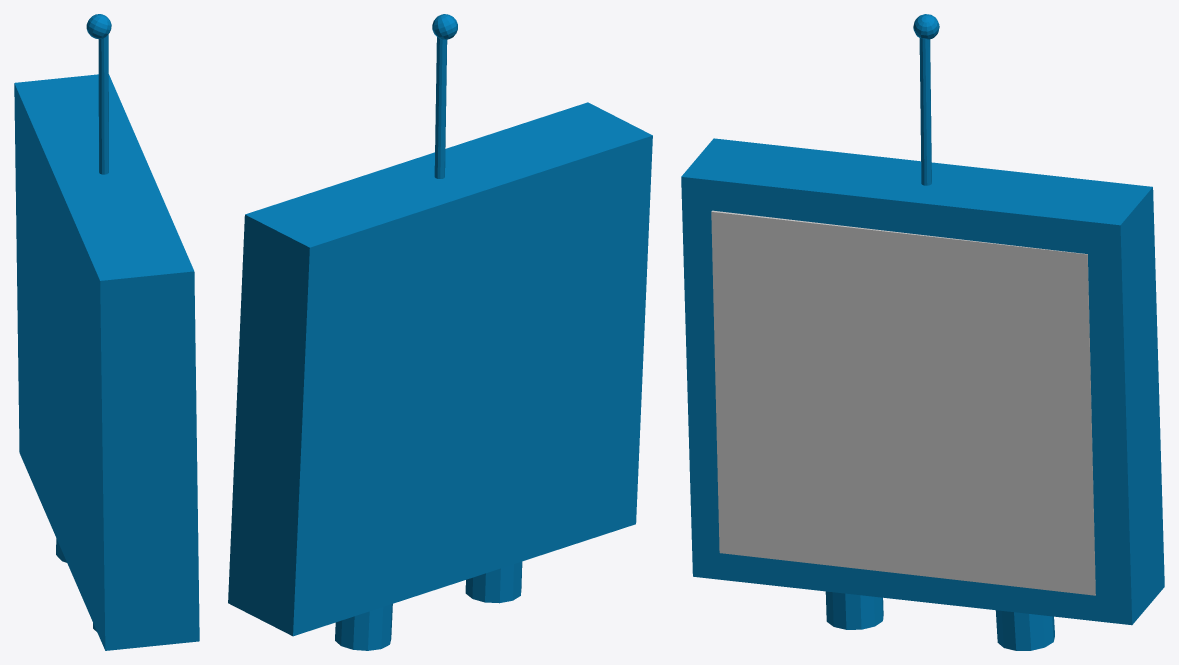
The picture shows the model from 3 angles, left to right: view 1: azimuth 30°, elevation 25°; view 2: azimuth 150°, elevation 25°; view 3: azimuth 270°, elevation 25°; orthographic projection. The views are drawn at different scales.
Visible parts, largest first — view 1: node_MeshObject2117136384-PolyPaper21; view 2: node_MeshObject2117136384-PolyPaper21; view 3: node_MeshObject2117136384-PolyPaper21.
Boxes of the visible parts, x1=… form: node_MeshObject2117136384-PolyPaper21: x1=14, y1=14, x2=199, y2=650; node_MeshObject2117136384-PolyPaper21: x1=228, y1=14, x2=652, y2=650; node_MeshObject2117136384-PolyPaper21: x1=681, y1=14, x2=1164, y2=650.
Size of the model in its own units: 0.4866 by 1.27 by 0.9116.
